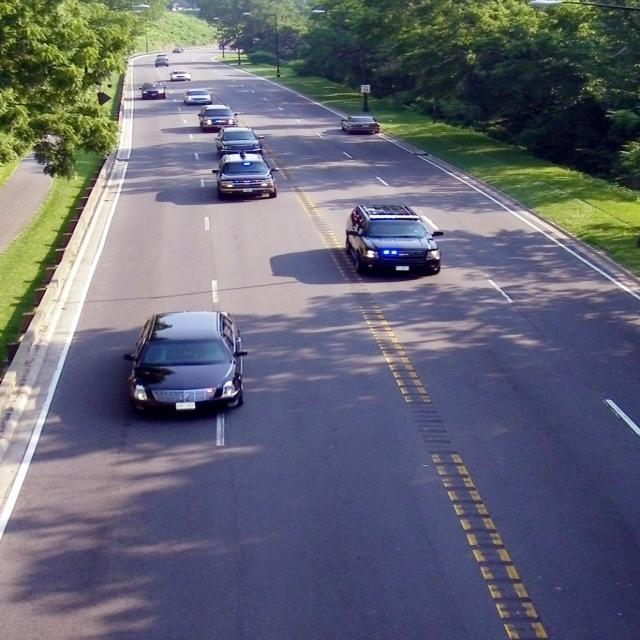car: (122, 310, 247, 420), (343, 204, 442, 275), (339, 114, 379, 132)
